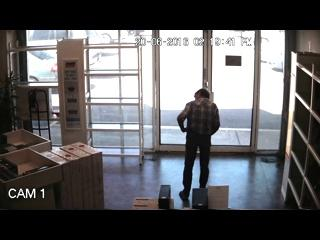Normal: (177, 88, 220, 200)
